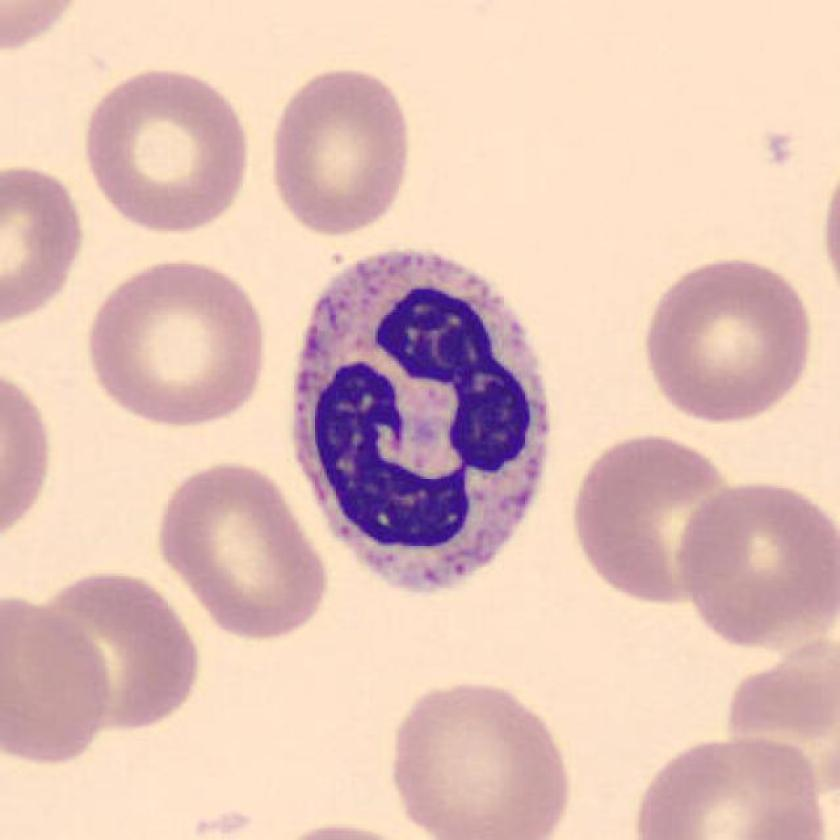neutrophil: (298, 255, 550, 596)
